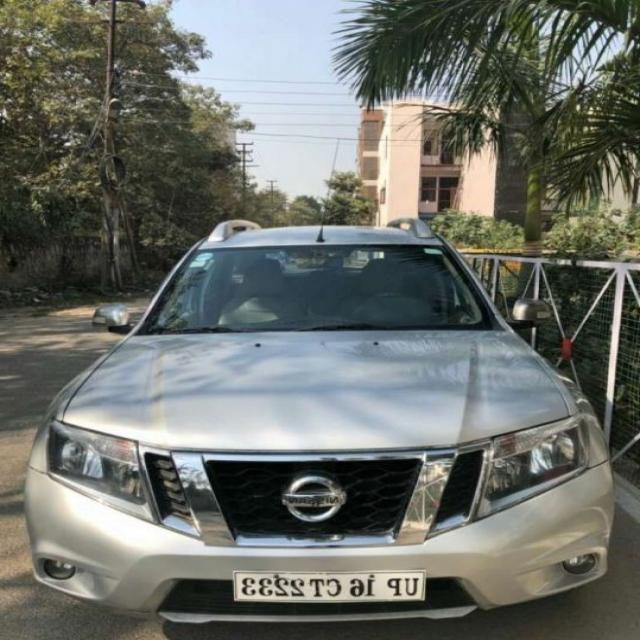license_plate: (231, 568, 430, 605)
